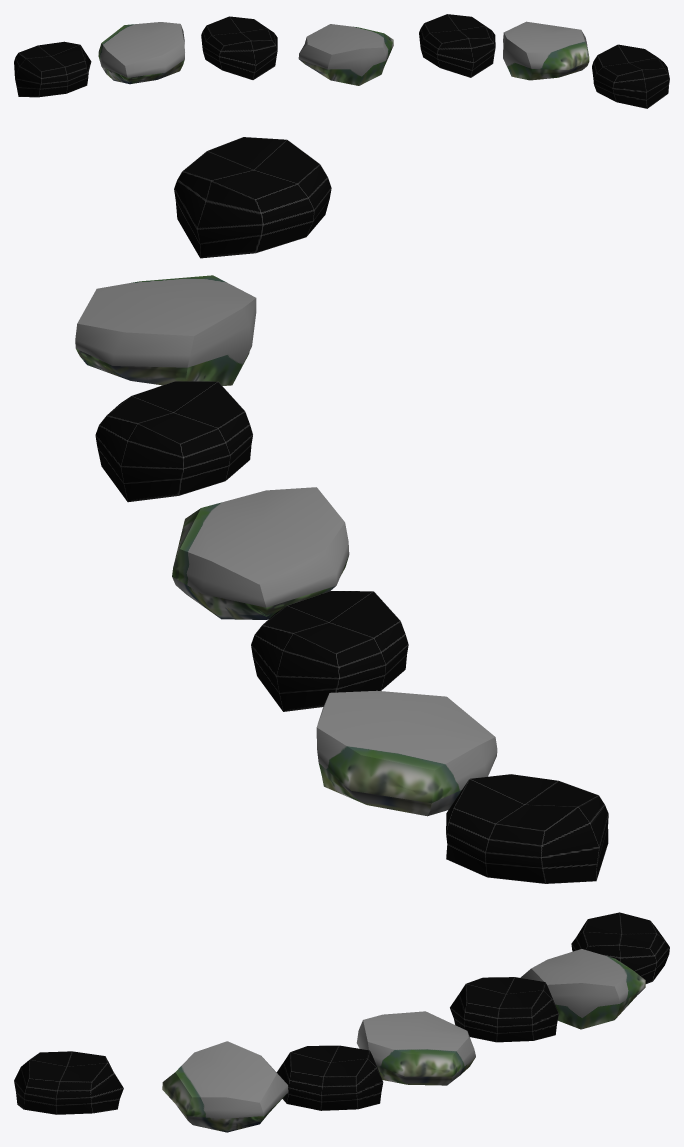
Rendered from RockStaircase.obj.
3 views of the same model, one above another, from view 1: azimuth 30°, elevation 25°; view 2: azimuth 150°, elevation 25°; view 3: azimuth 270°, elevation 25° (orthographic). The views are drawn at different scales.
Visible parts, largest first — view 1: rockwideround:rockwideround, rockwideround1, rockwideround2, rockround, rockround2, rockround1, RoundRock:rockround; view 2: rockwideround1, rockwideround:rockwideround, rockwideround2, RoundRock:rockround, rockround, rockround2, rockround1; view 3: rockwideround2, rockwideround1, rockwideround:rockwideround, rockround1, rockround, rockround2, RoundRock:rockround.
Boxes of the visible parts, bbox=[...] form: rockwideround:rockwideround: bbox=[98, 22, 184, 84]; rockwideround1: bbox=[298, 24, 393, 85]; rockwideround2: bbox=[503, 21, 589, 80]; rockround: bbox=[592, 44, 669, 108]; rockround2: bbox=[419, 14, 495, 77]; rockround1: bbox=[201, 16, 277, 79]; RoundRock:rockround: bbox=[14, 41, 91, 97]; rockwideround1: bbox=[172, 487, 349, 619]; rockwideround:rockwideround: bbox=[316, 690, 497, 816]; rockwideround2: bbox=[75, 275, 256, 385]; RoundRock:rockround: bbox=[446, 774, 608, 883]; rockround: bbox=[174, 137, 331, 258]; rockround2: bbox=[95, 381, 252, 502]; rockround1: bbox=[251, 591, 408, 711]; rockwideround2: bbox=[162, 1041, 288, 1132]; rockwideround1: bbox=[356, 1011, 475, 1085]; rockwideround:rockwideround: bbox=[520, 949, 645, 1029]; rockround1: bbox=[450, 977, 558, 1042]; rockround: bbox=[14, 1051, 123, 1114]; rockround2: bbox=[276, 1045, 383, 1110]; RoundRock:rockround: bbox=[571, 912, 669, 983].
Bounding box in the file's own units: 53.83 × 12.79 × 57.03.
